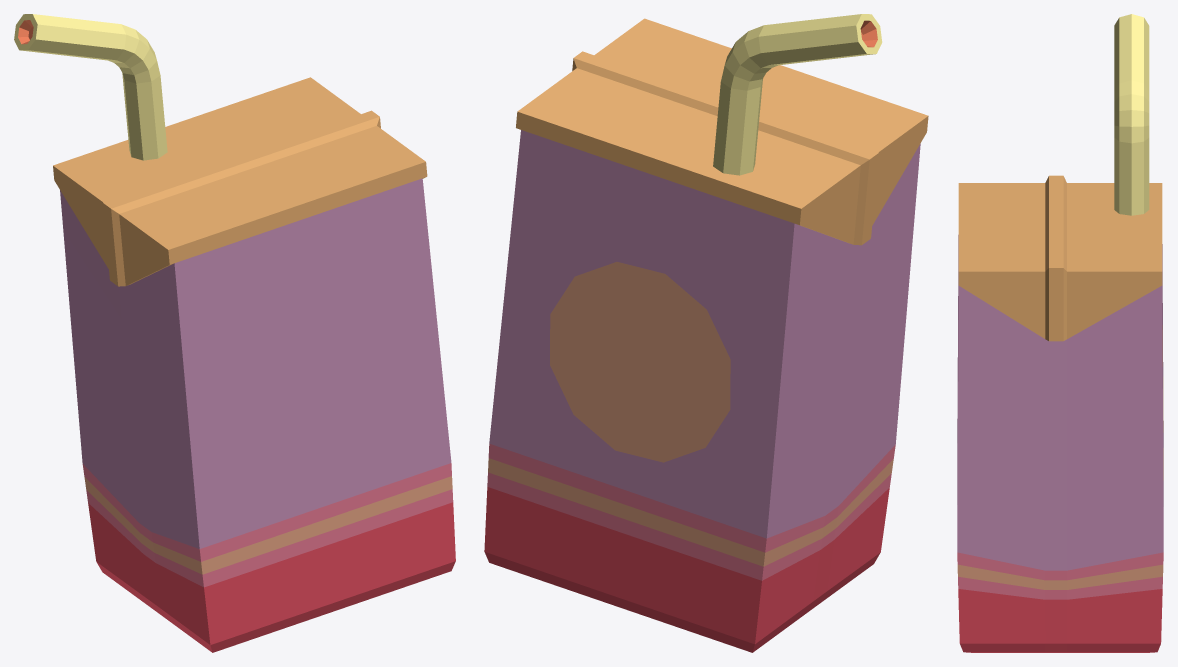
The model's file is FrootBox.DayFroot.fbx.
3 renders of one model, left to right at view 1: azimuth 30°, elevation 25°; view 2: azimuth 150°, elevation 25°; view 3: azimuth 270°, elevation 25°, orthographic. The views are drawn at different scales.
Parts seen in each view (by area): view 1: FrootBox.DayFroot; view 2: FrootBox.DayFroot; view 3: FrootBox.DayFroot.
Boxes of the visible parts, x1,y1,x2,y2 form: FrootBox.DayFroot: [14, 14, 455, 652]; FrootBox.DayFroot: [484, 14, 928, 652]; FrootBox.DayFroot: [957, 14, 1163, 652].
Bounding box in the file's own units: 47.22 × 78.87 × 28.23.
